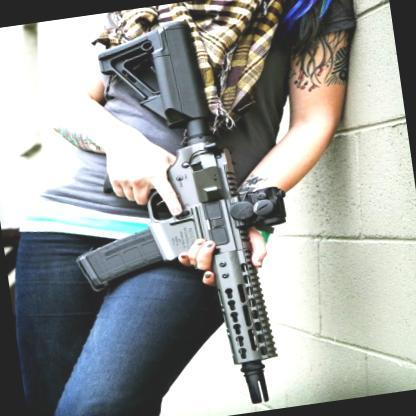rifle: (68, 22, 289, 416)
